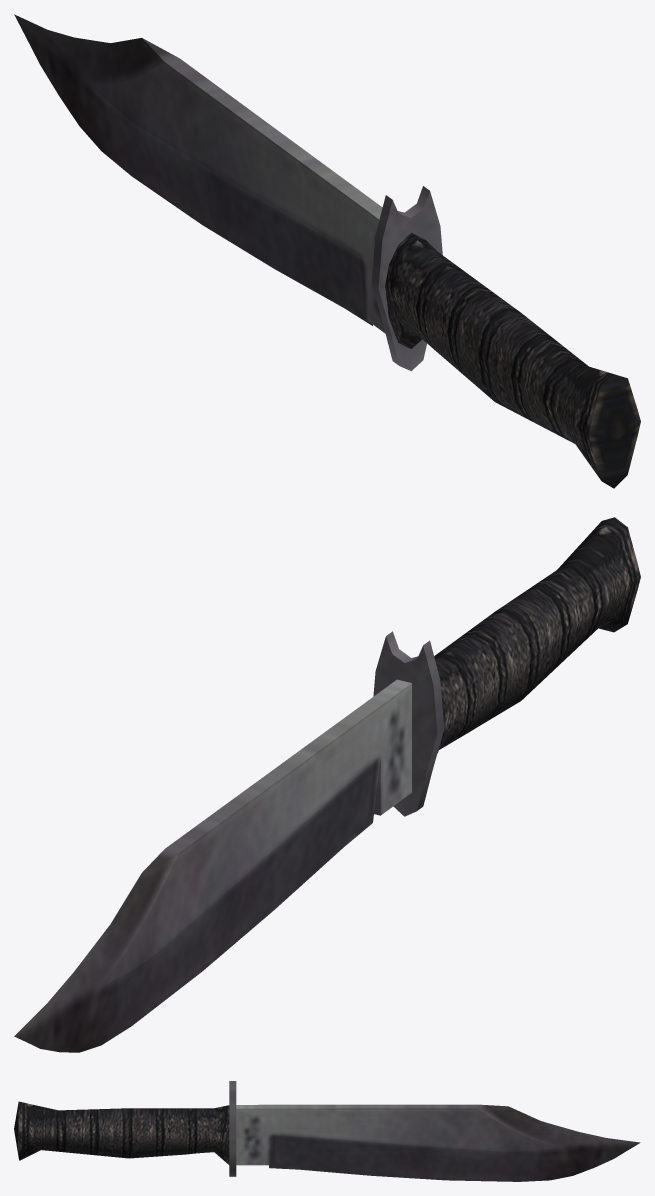
File: knife1.FBX
3 views of the same model, one above another, from view 1: azimuth 30°, elevation 25°; view 2: azimuth 150°, elevation 25°; view 3: azimuth 270°, elevation 25° (orthographic). The views are drawn at different scales.
Visible parts, largest first — view 1: knife1; view 2: knife1; view 3: knife1.
Boxes of the visible parts, <box> form: knife1: <box>14,14,640,488</box>; knife1: <box>14,517,640,1052</box>; knife1: <box>14,1081,640,1181</box>.
Size of the model in its own units: 2.4 by 6.48 by 38.26.
